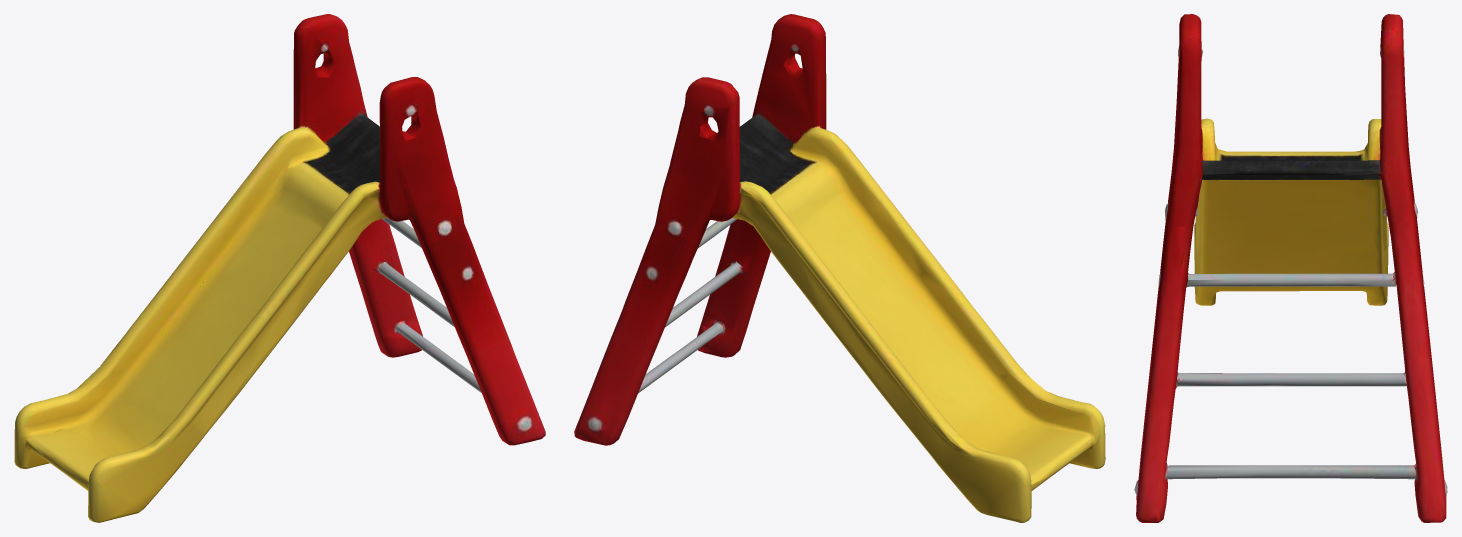
Rendered from slide.glb.
3 renders of one model, left to right at view 1: azimuth 30°, elevation 25°; view 2: azimuth 150°, elevation 25°; view 3: azimuth 270°, elevation 25°, orthographic. The views are drawn at different scales.
Parts seen in each view (by area): view 1: slide; view 2: slide; view 3: slide.
Part boxes in pixels (x1=…): slide: x1=14, y1=14, x2=545, y2=522; slide: x1=574, y1=14, x2=1105, y2=522; slide: x1=1134, y1=14, x2=1447, y2=522.
Size of the model in its own units: 2.54 by 2.1 by 1.37.
1 material, 1 textured.
